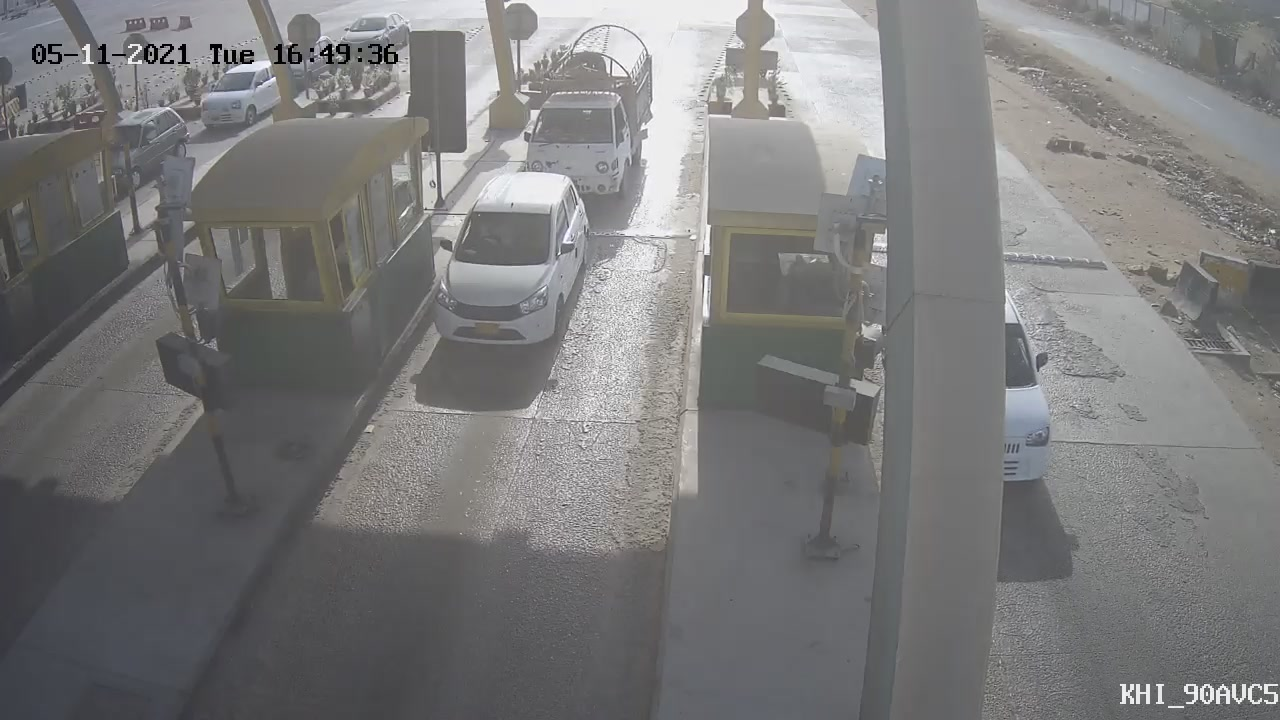F1: (428, 167, 601, 355)
F2: (511, 21, 661, 208)
